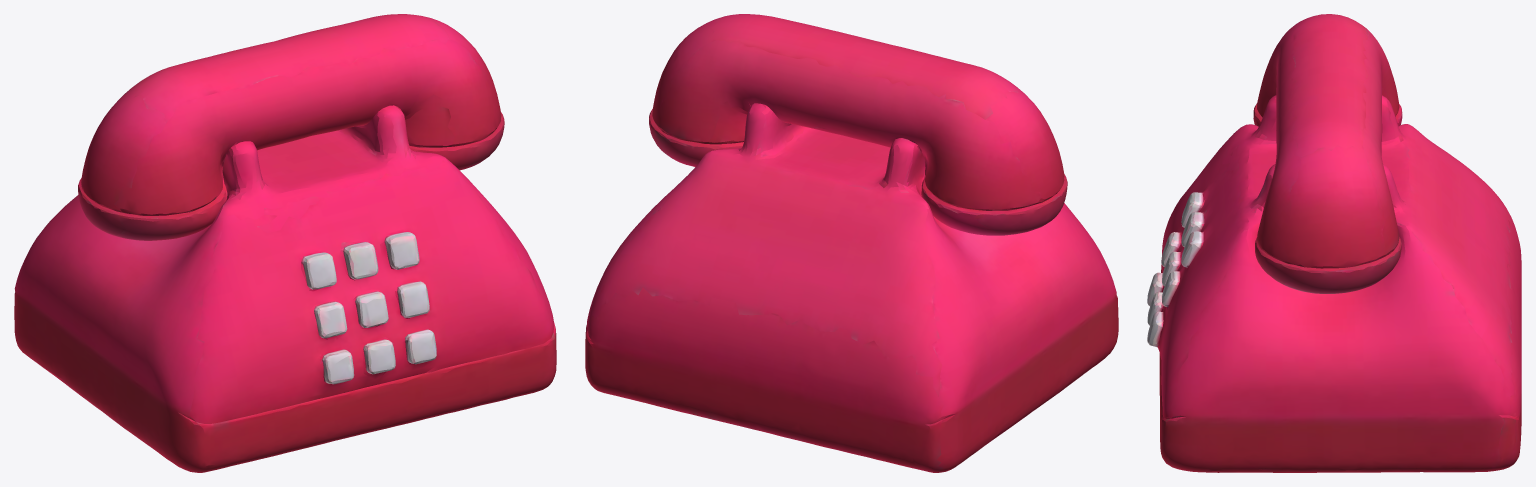
The model's file is telephone.glb.
3 views of the same model, side by side, from view 1: azimuth 30°, elevation 25°; view 2: azimuth 150°, elevation 25°; view 3: azimuth 270°, elevation 25° (orthographic). The views are drawn at different scales.
Parts seen in each view (by area): view 1: Mesh; view 2: Mesh; view 3: Mesh.
Boxes of the visible parts, x1=… form: Mesh: x1=14, y1=14, x2=556, y2=472; Mesh: x1=585, y1=14, x2=1118, y2=472; Mesh: x1=1147, y1=14, x2=1521, y2=472.
Bounding box in the file's own units: 1 × 0.7805 × 0.8304.
1 material, 1 textured.
